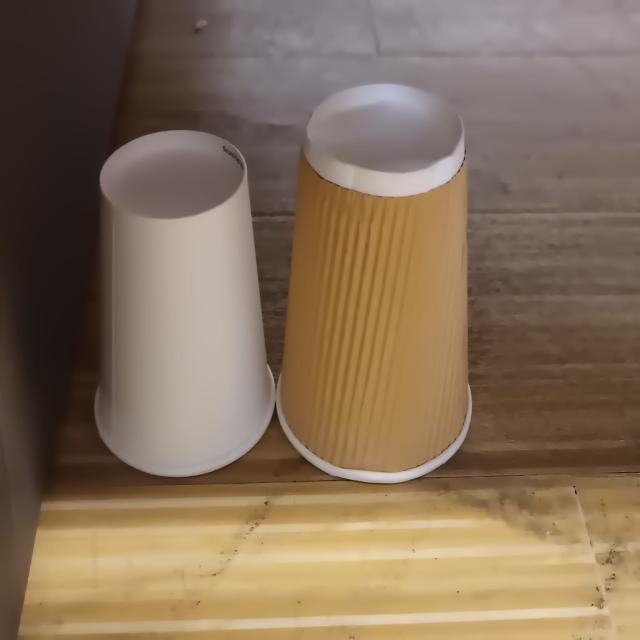Browncup: (277, 84, 471, 483)
Whitecup: (94, 130, 275, 476)
